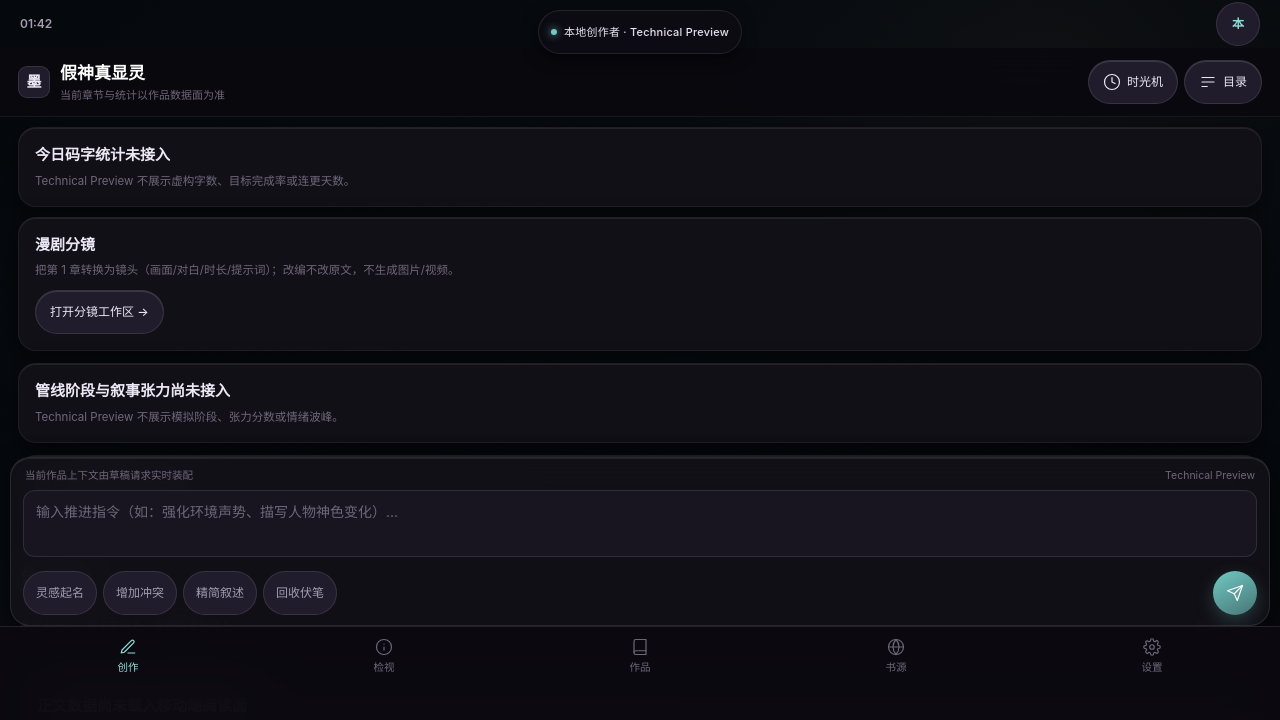
MobileShell - 移动端 Technical Preview 工作台组件测试 › 点击时光机只显示未接入状态，不伪造版本或回滚
The image size is (1280, 720).
What coordinates should you click on to do the following:
click the button titled "版本历史时光机"
I would click on:
 (1133, 82)
Its box is [1088,60,1178,104].
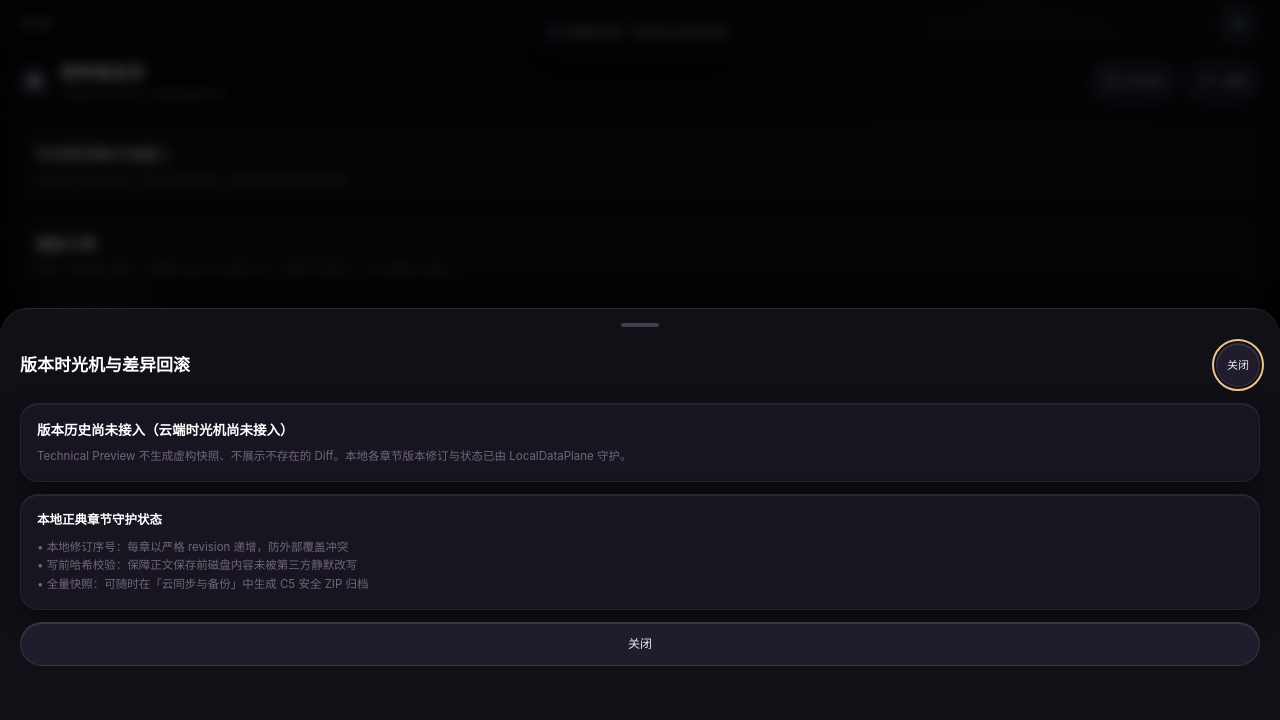
Expected: the heading "版本时光机与差异回滚" is shown, [20,353,190,378]
Expected: the text "版本历史尚未接入（云端时光机尚未接入）" is shown, [37,422,294,438]
